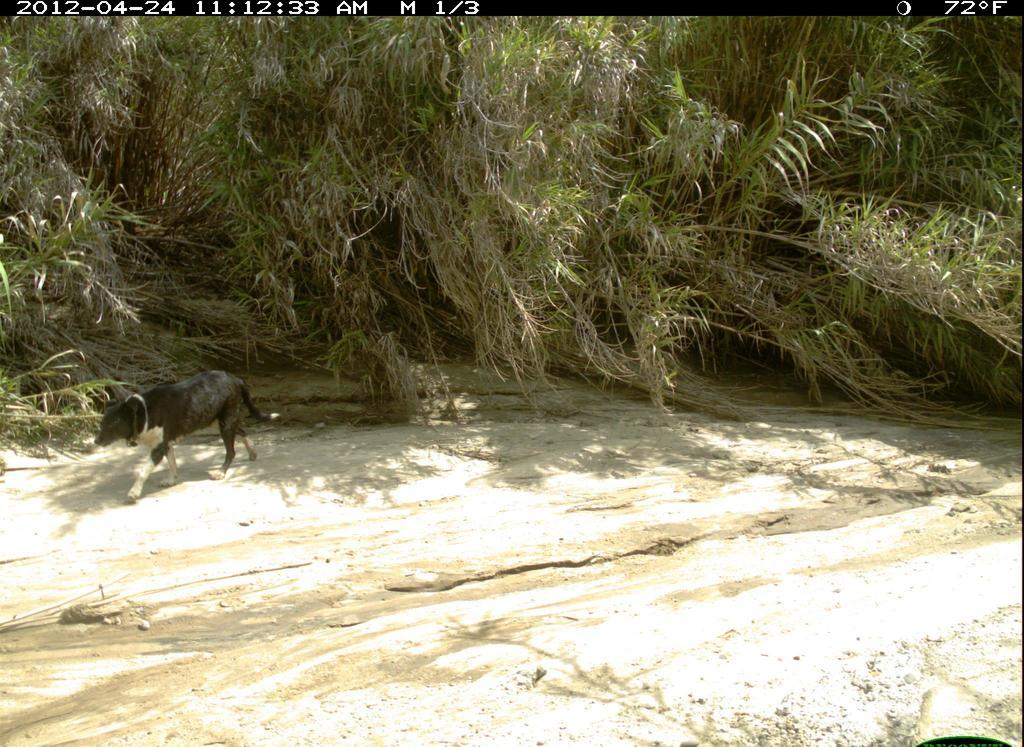dog: (97, 368, 277, 502)
